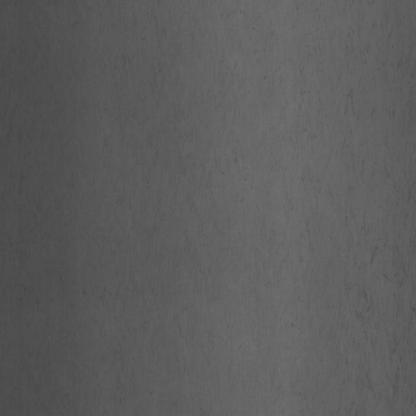silk_spot: (298, 72, 394, 349)
